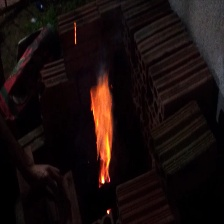fire: (76, 68, 123, 185)
